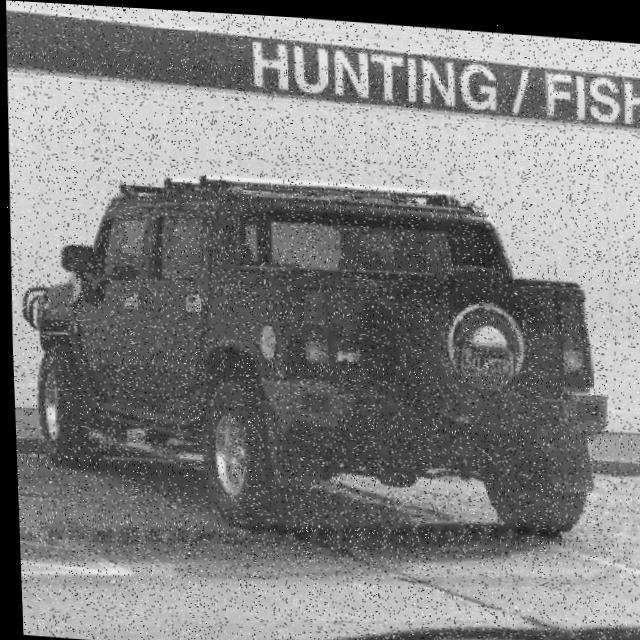LicensePlate: (456, 335, 511, 373)
